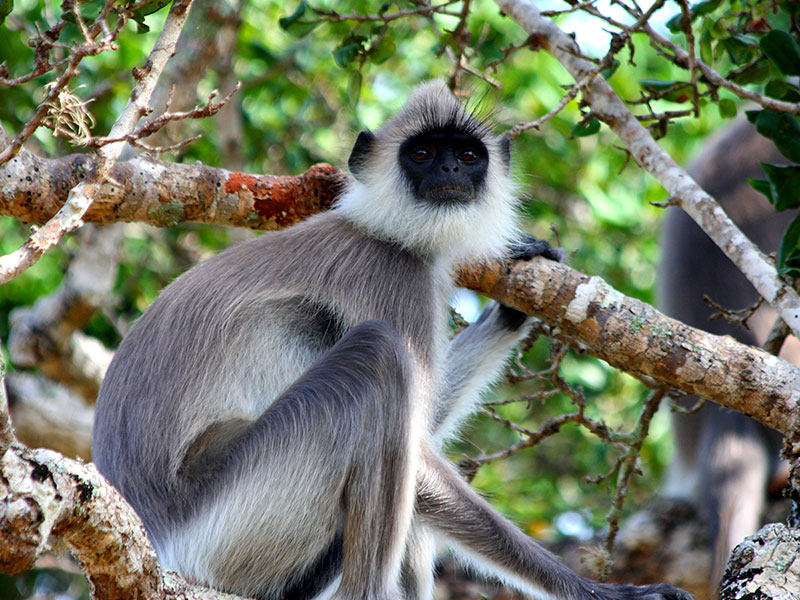Monkey: (70, 68, 539, 600)
